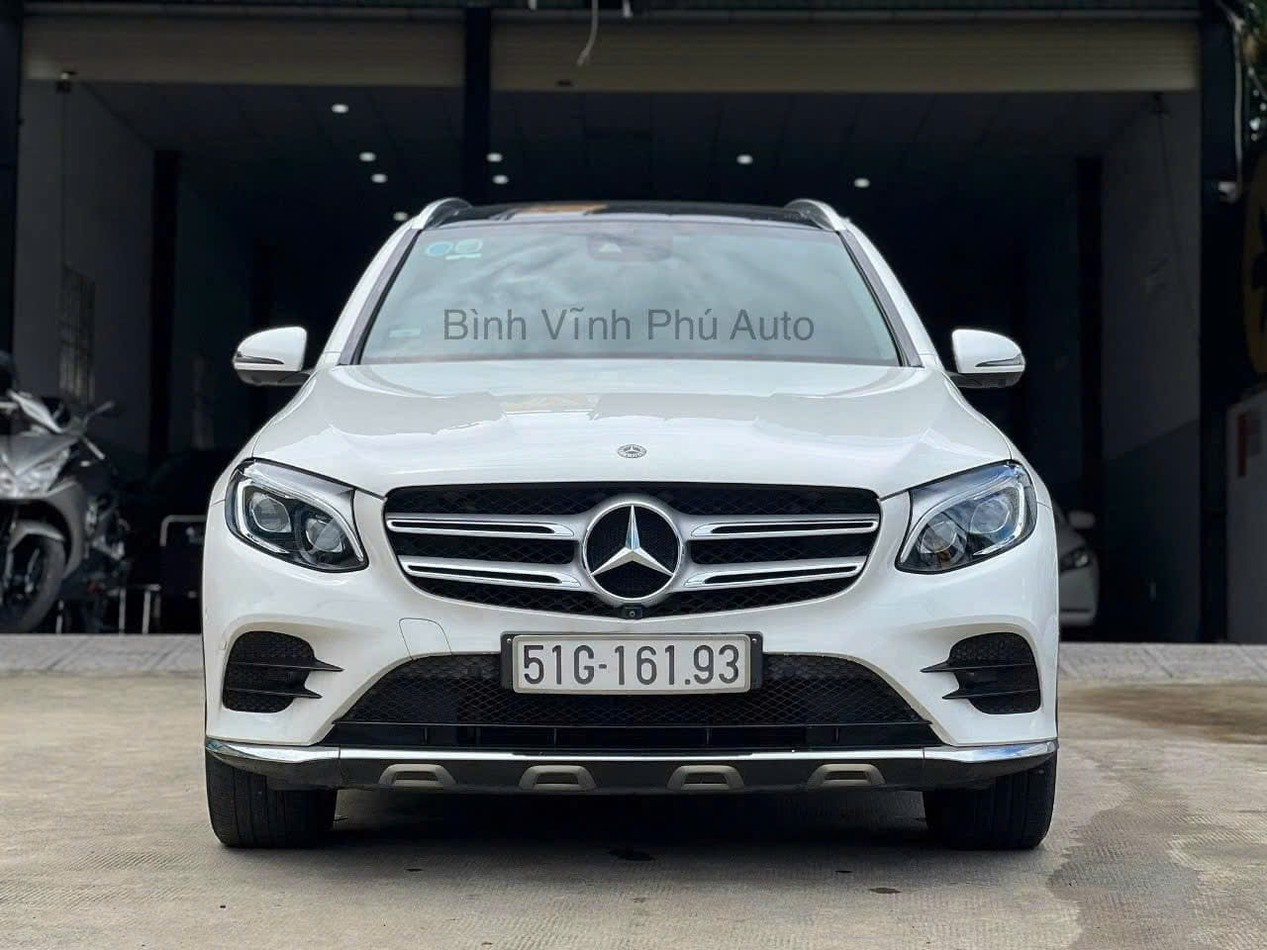Bien-so: (503, 637, 758, 695)
